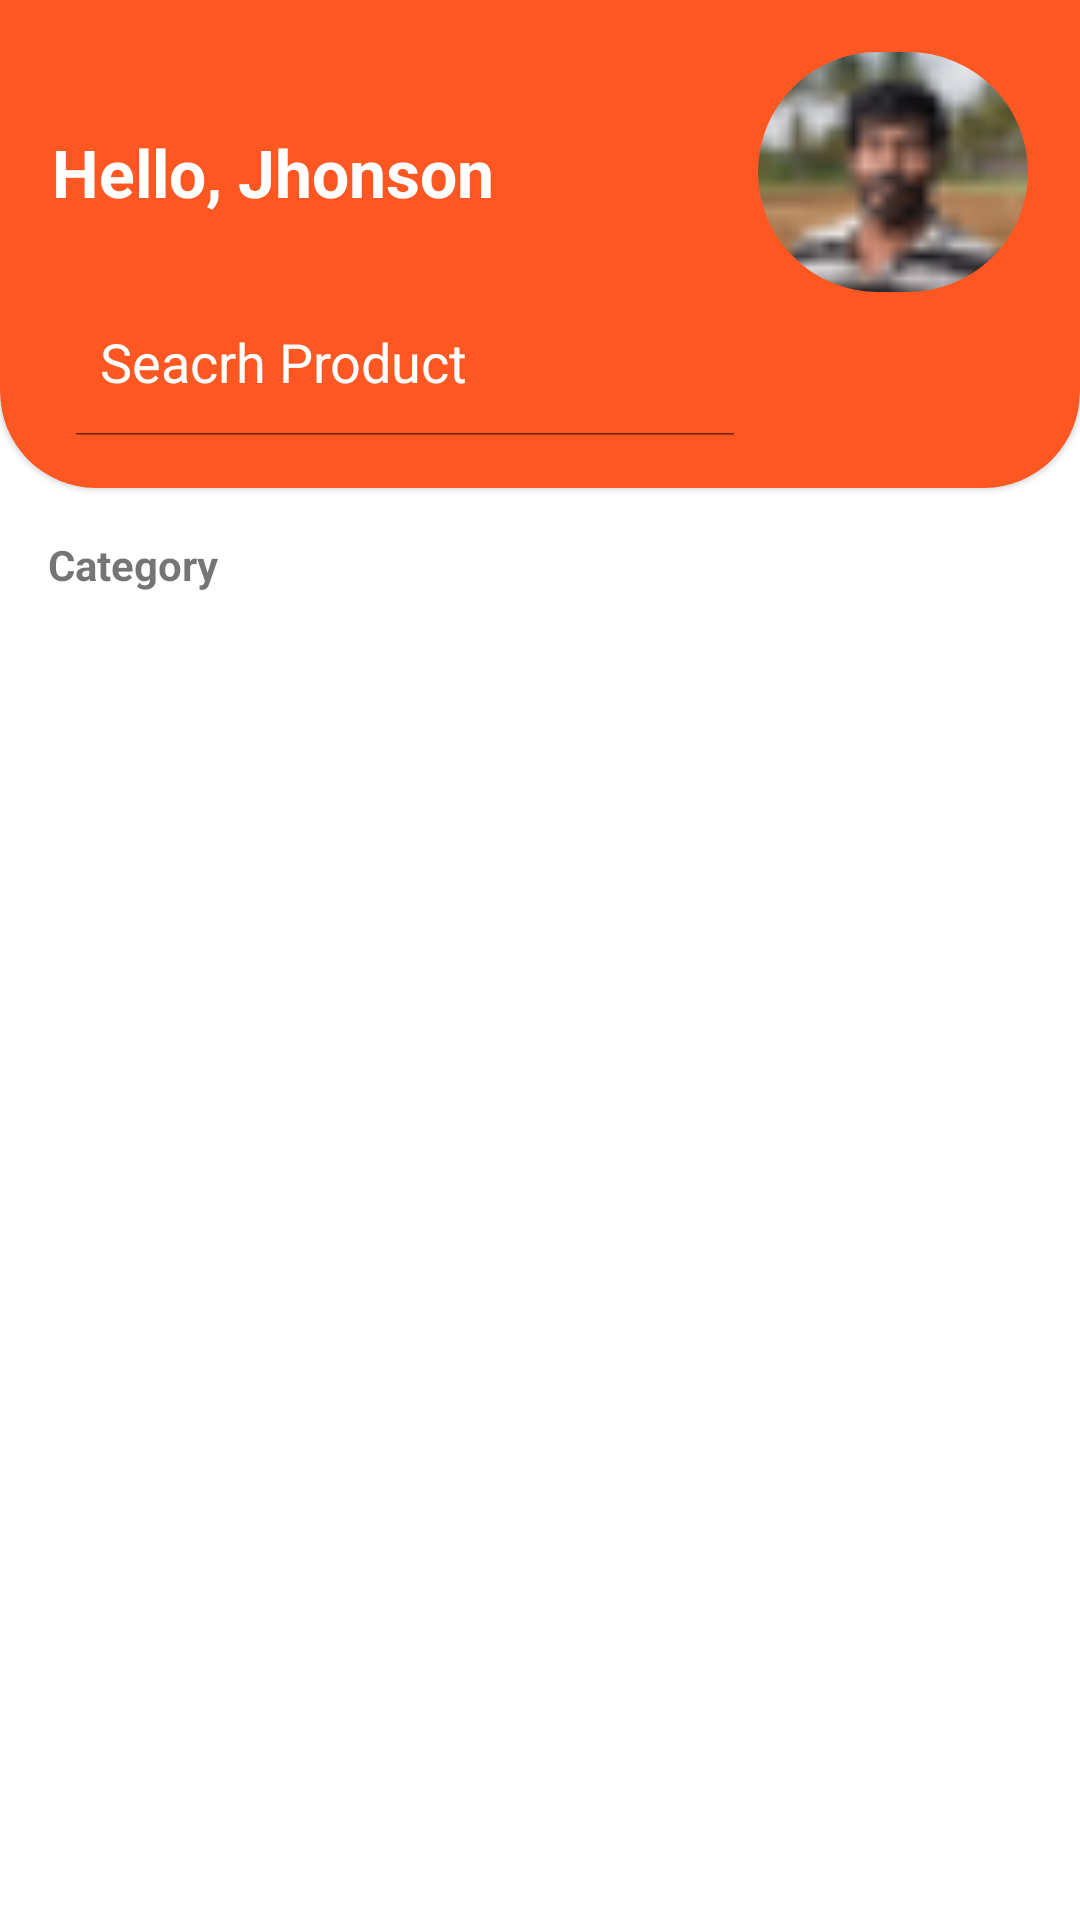

Icons on this 1080px×1920px Android screen, each with its box as (x1, y1, x2, y2):
photo: (758, 52, 1028, 292)
